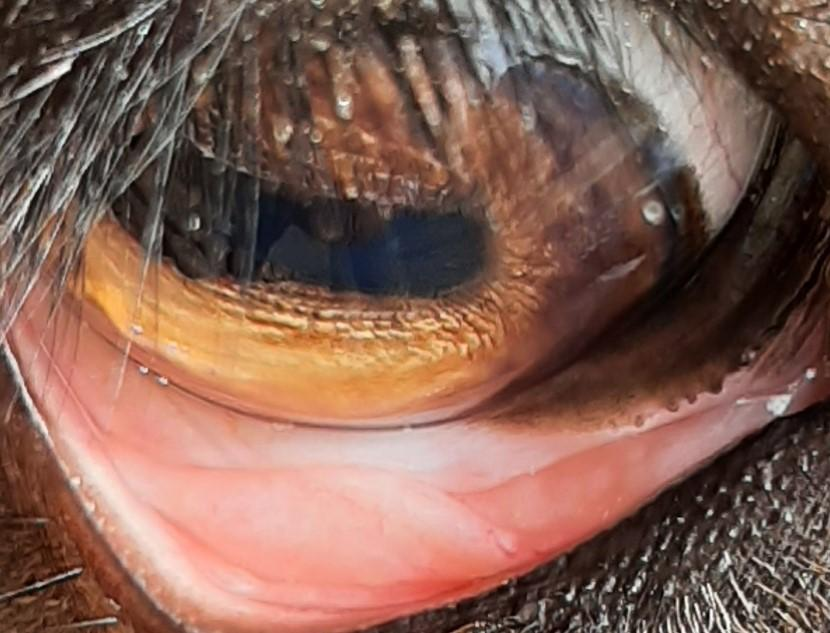eye_membrane: (0, 149, 830, 631)
